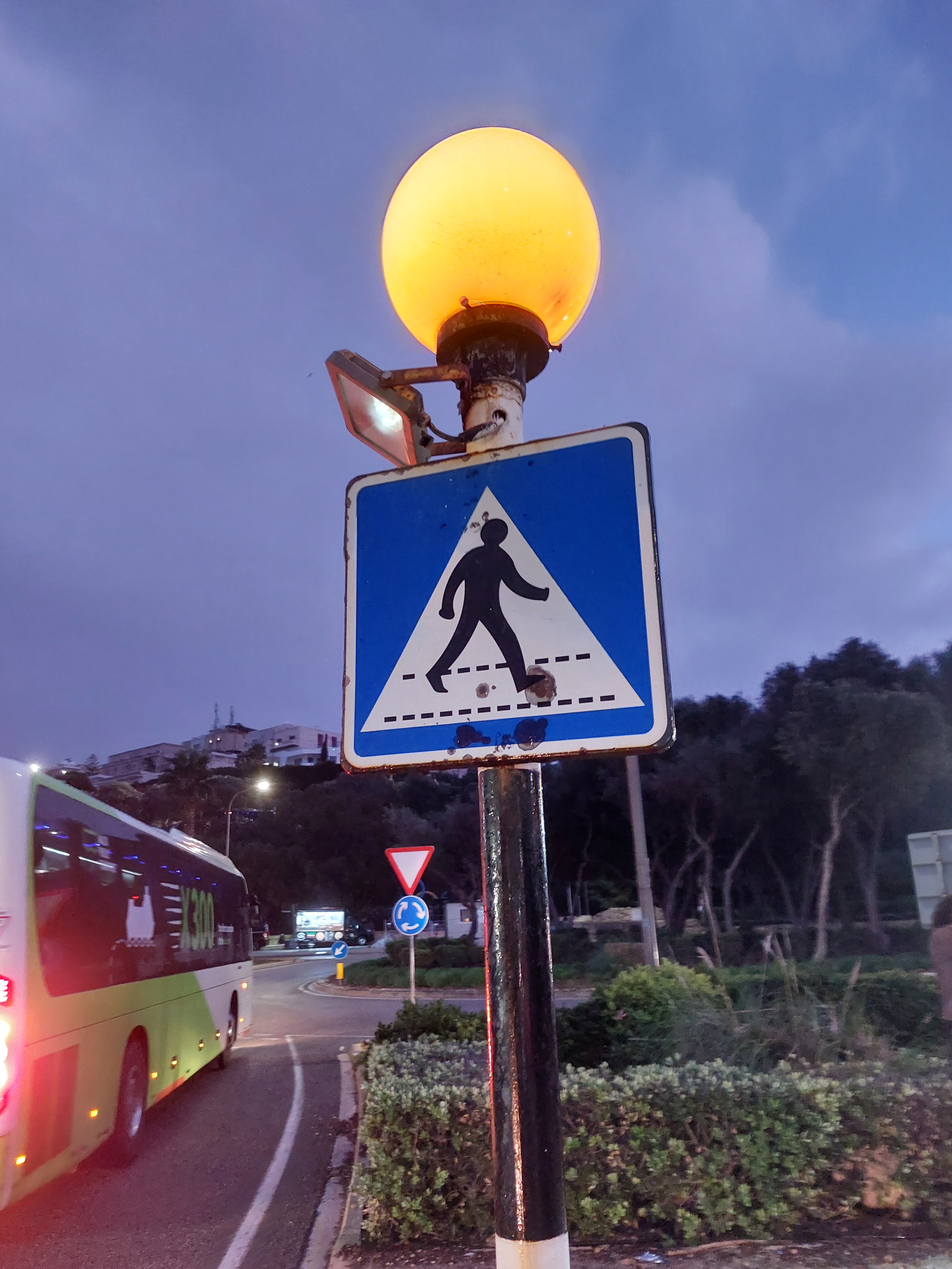Directional Sign: (331, 940, 348, 960)
Other-Unknown: (385, 846, 435, 895)
Pedestrian Crossing: (340, 421, 676, 776)
Roundabout Ahead: (391, 896, 429, 935)
